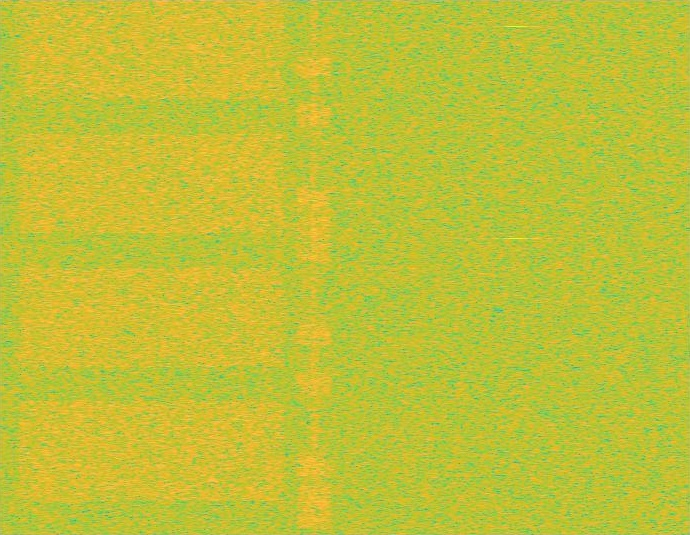5G: (14, 0, 290, 534)
DSSS: (310, 0, 318, 534)
LTE: (297, 0, 331, 534)
Radar: (509, 0, 522, 534)
